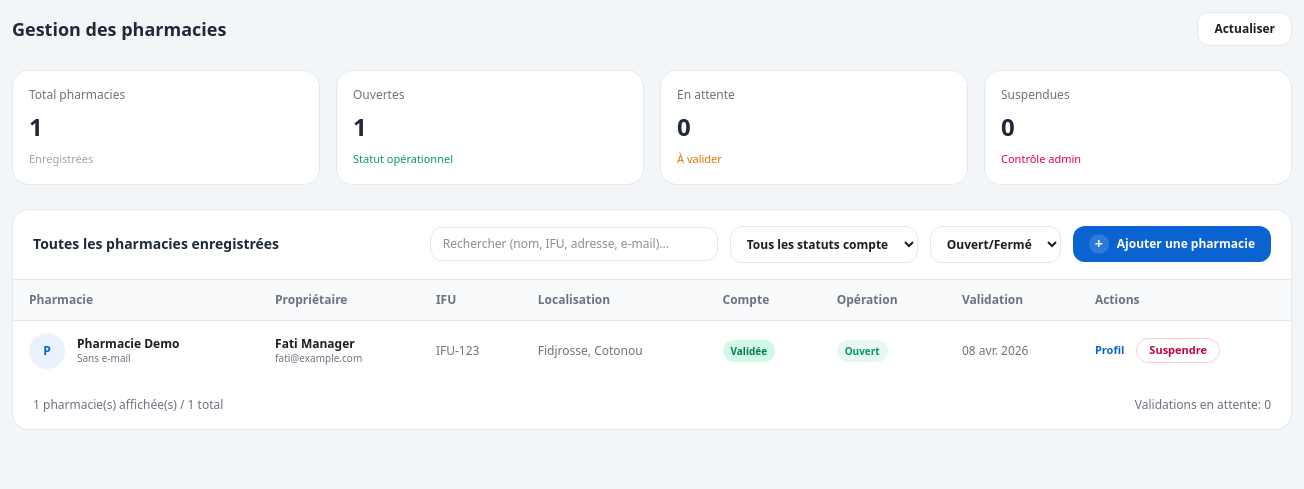
Test: Admin flow integration › lets admin suspend a pharmacy owner from pharmacies list
Expected: the text "Pharmacie Demo" is shown, top-left (77, 336), bottom-right (179, 352)
What coordinates should you click on to do the following:
click the button "Suspendre"
I would click on:
 (1178, 351)
Its box is top-left (1136, 338), bottom-right (1220, 363).
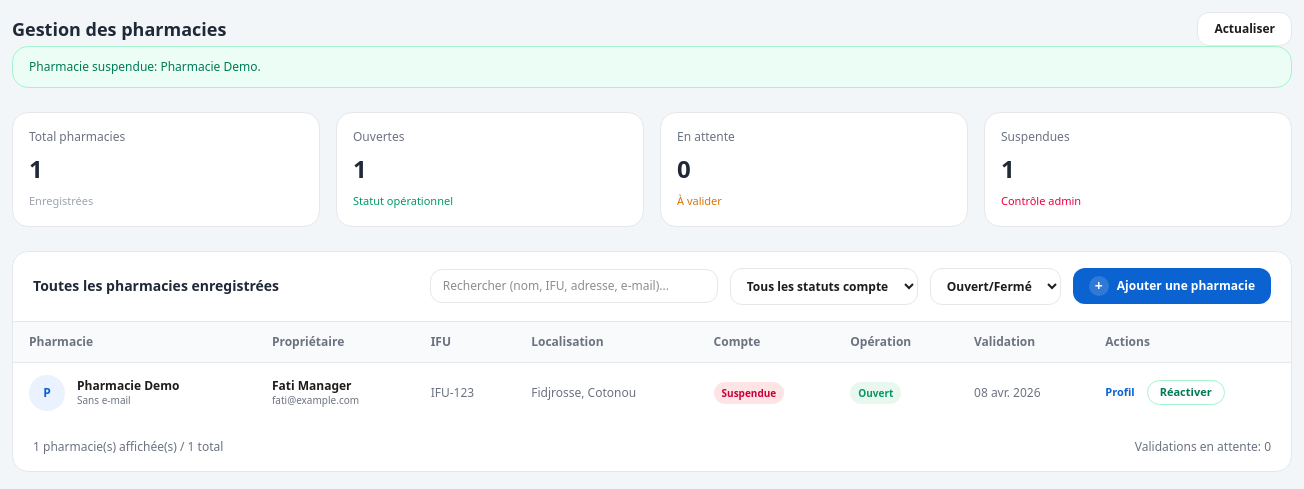
Now the text "Pharmacie suspendue: Pharmacie Demo." is shown, box top-left (12, 46), bottom-right (1292, 88)
